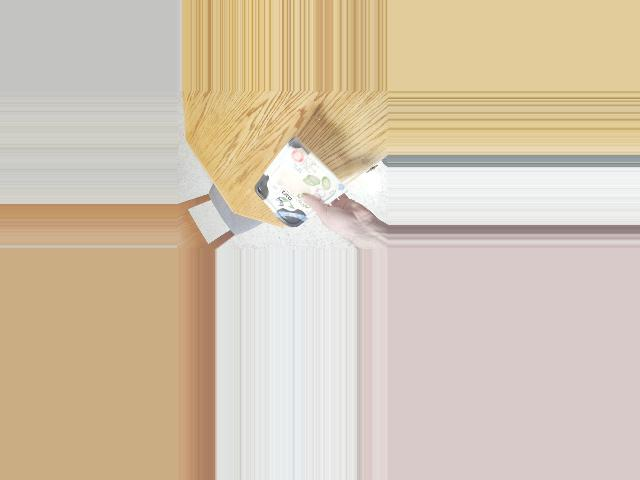cheese: (262, 148, 330, 227)
